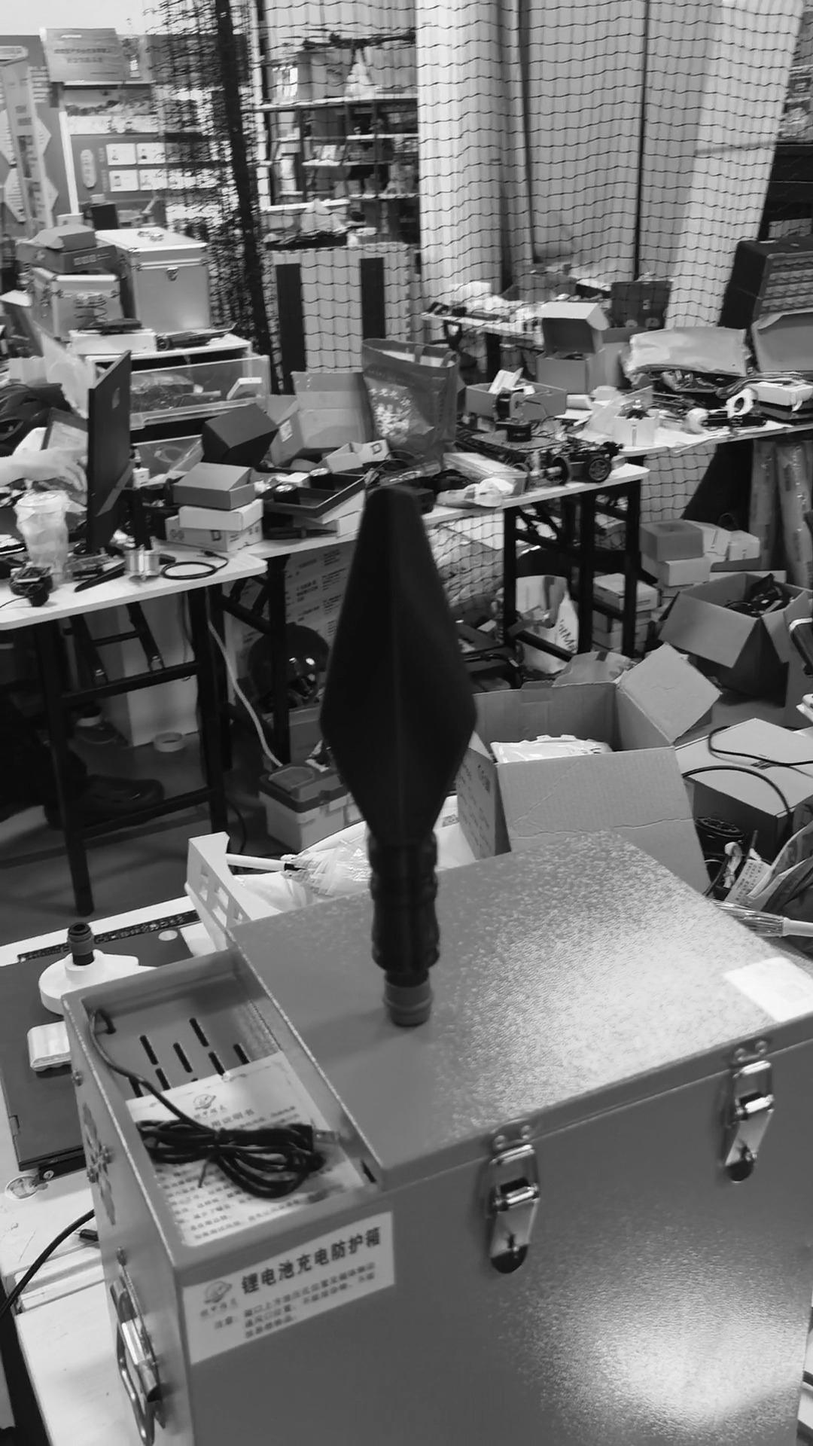base: (383, 977, 433, 1028)
